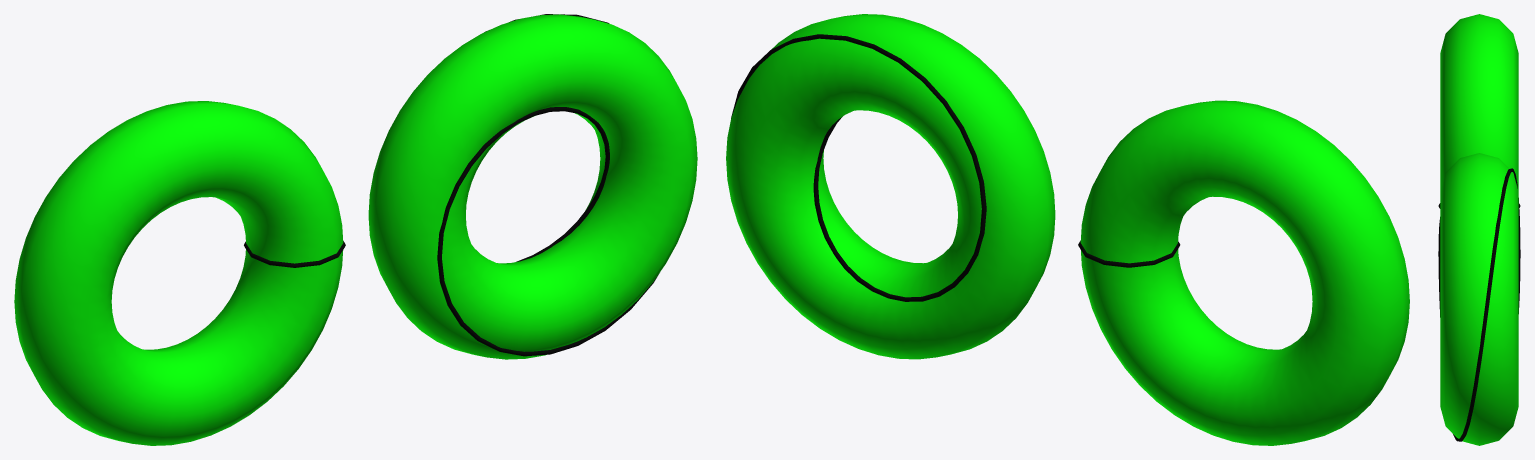
File: l2_1_website.glb
3 renders of one model, left to right at view 1: azimuth 30°, elevation 25°; view 2: azimuth 150°, elevation 25°; view 3: azimuth 270°, elevation 25°, orthographic. The views are drawn at different scales.
Visible parts, largest first — view 1: Torus1, Torus2, boundary; view 2: Torus1, Torus2, boundary; view 3: Torus2, Torus1, boundary.
Part boxes in pixels (box(x1,y1,x2,y2)): Torus1: box(14, 101, 343, 445); Torus2: box(368, 14, 697, 359); boundary: box(437, 14, 659, 356); Torus1: box(1080, 100, 1409, 445); Torus2: box(726, 14, 1055, 359); boundary: box(731, 34, 986, 301); Torus2: box(1440, 153, 1518, 445); Torus1: box(1440, 14, 1518, 191); boundary: box(1438, 168, 1520, 441).
Bounding box in the file's own units: 319 × 150 × 42.
